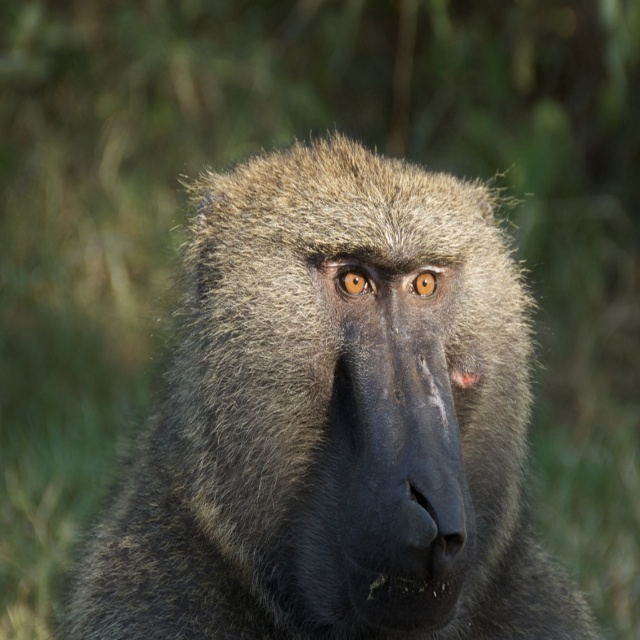Monkey: (35, 121, 604, 640)
